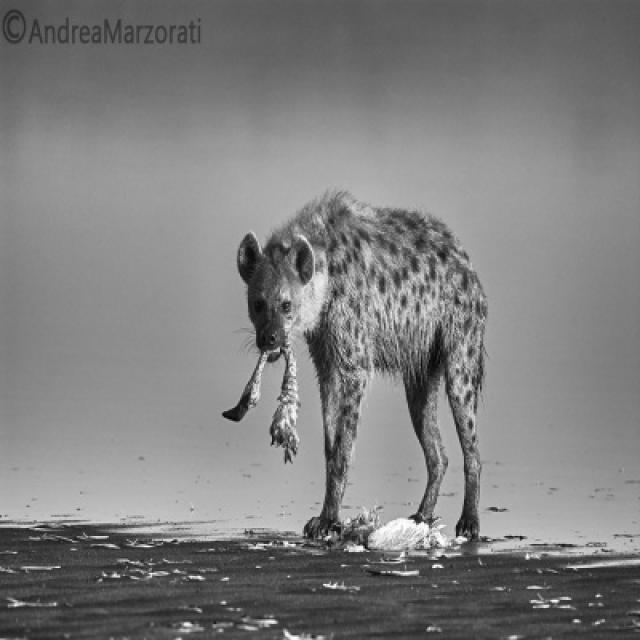hyena: (235, 189, 490, 544)
